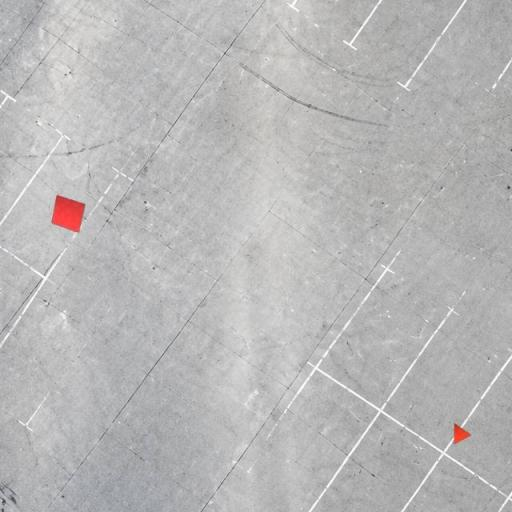RED_SQUARE: (52, 194, 86, 234)
